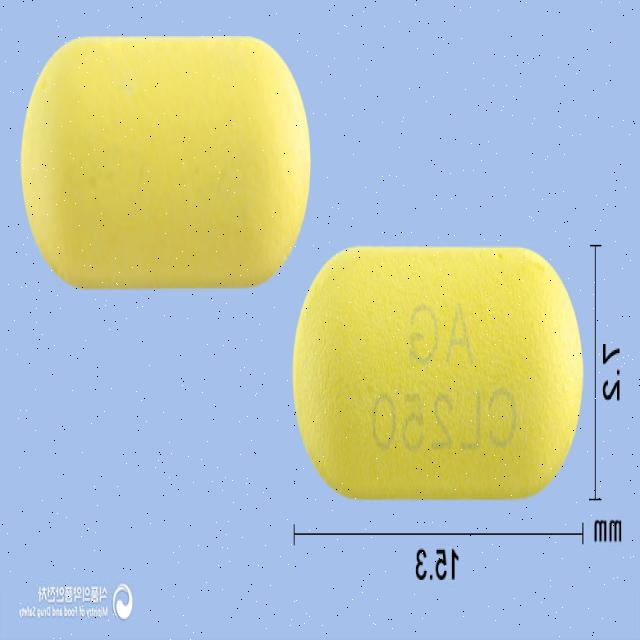Shuclari Tab: (290, 248, 584, 502)
